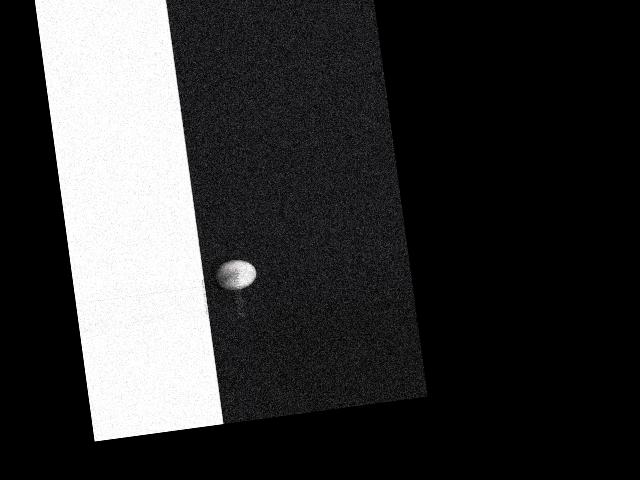egg: (213, 257, 258, 292)
